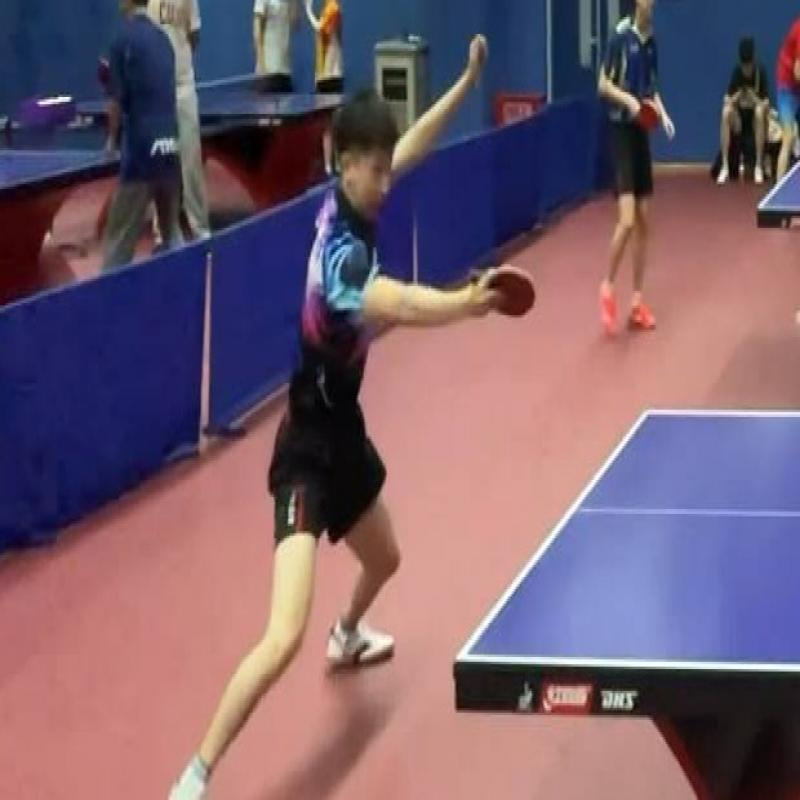bats: (470, 240, 548, 337)
